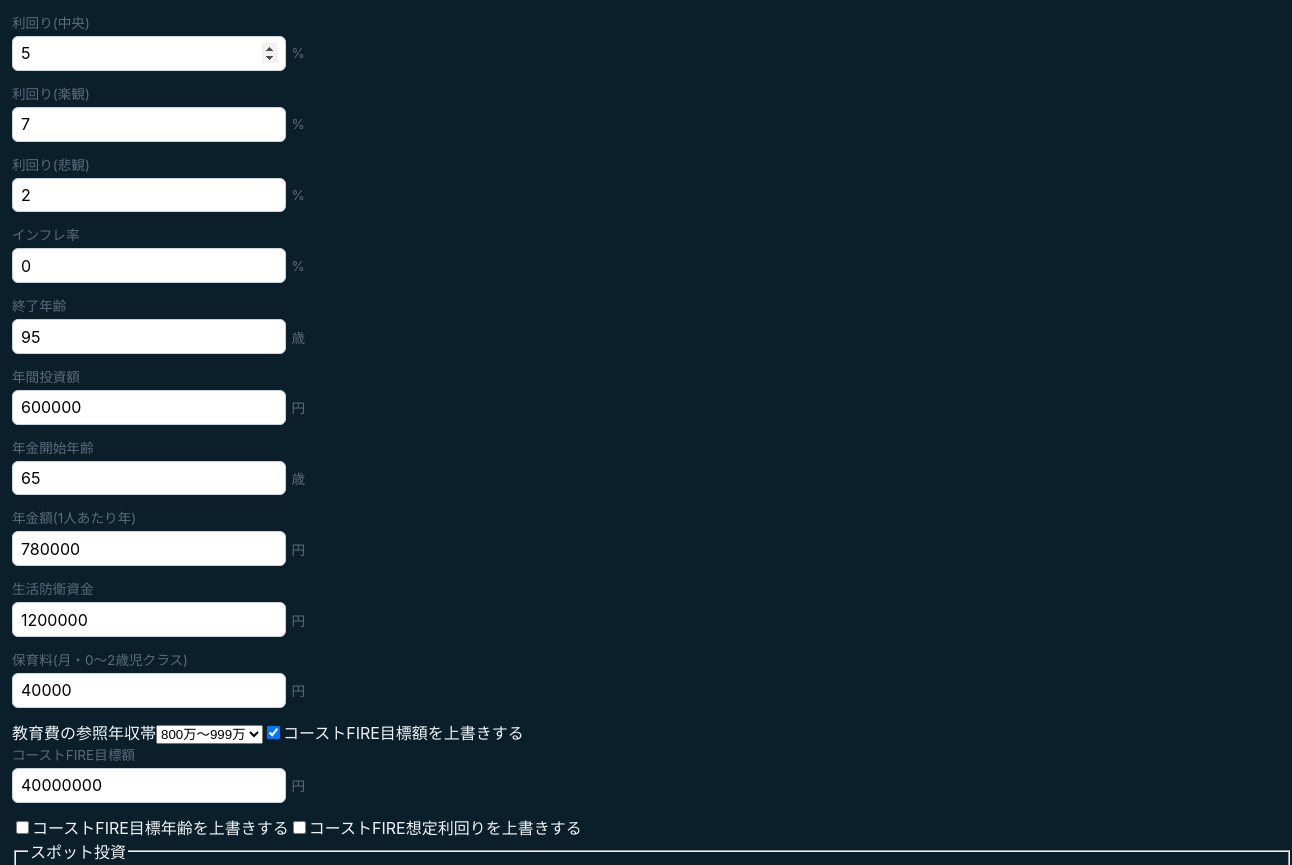
AssumptionsSection › rejects an endAge at or below the primary age at baseYear
# placeholder: baseYear 2026, primary birthYear 1990 → 現在年齢 36 → min 37
Replace the text in the number field labelled "終了年齢" with "36" at (149, 336), box [12, 319, 286, 354]
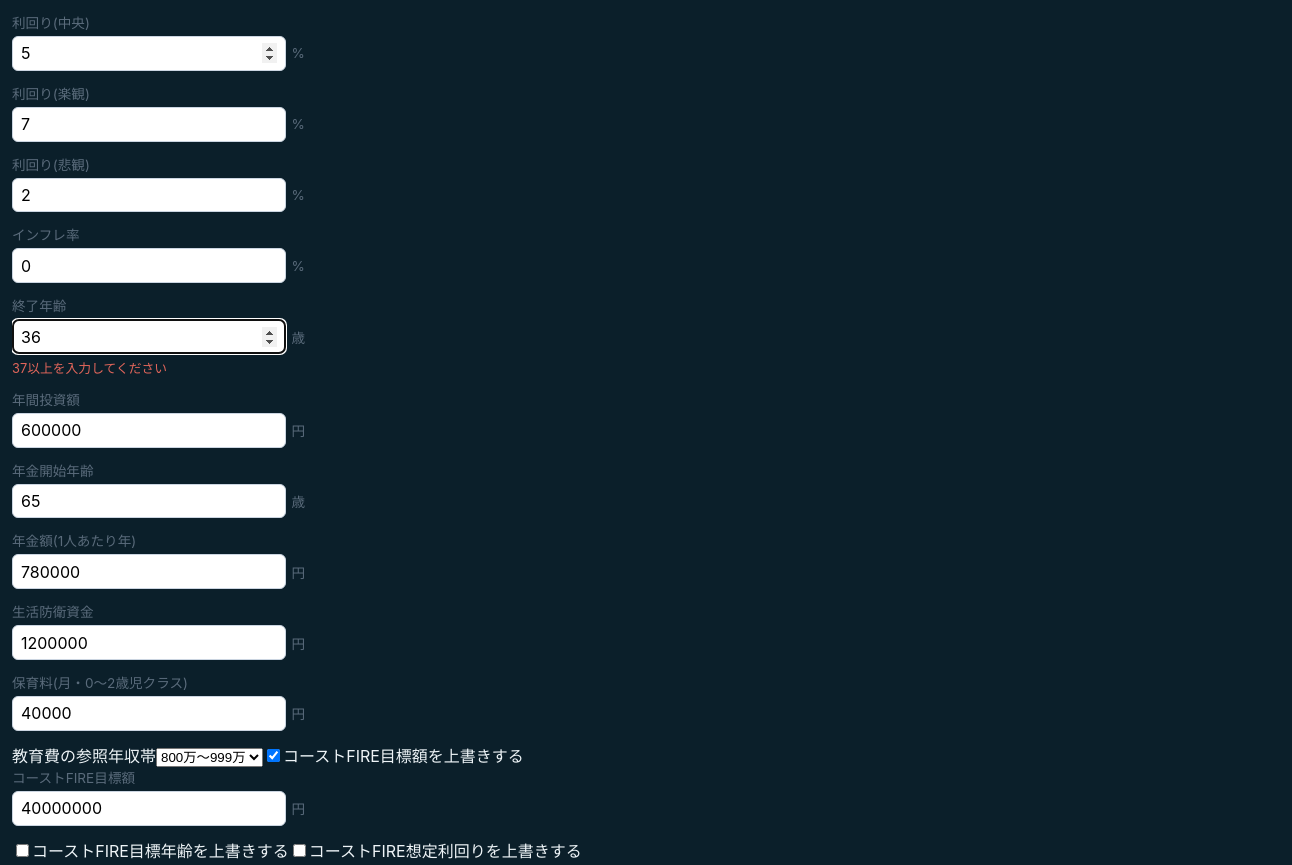
Expected: the message shows "37以上", [12, 361, 167, 376]
